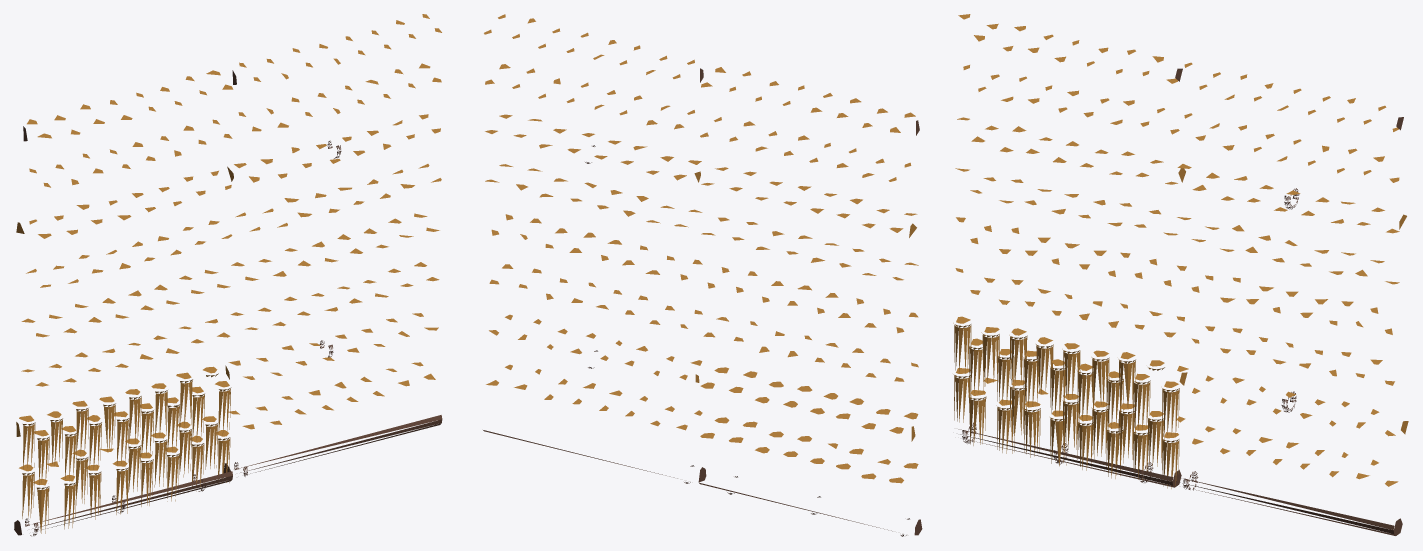
File: pagar_bambu.glb
The picture shows the model from 3 angles, left to right: view 1: azimuth 30°, elevation 25°; view 2: azimuth 150°, elevation 25°; view 3: azimuth 330°, elevation 25°; orthographic projection. The views are drawn at different scales.
Parts seen in each view (by area): view 1: geometry_0; view 2: geometry_0; view 3: geometry_0.
Part boxes in pixels (x1,y1,x2,y2): geometry_0: [14, 14, 442, 536]; geometry_0: [483, 14, 922, 536]; geometry_0: [953, 14, 1408, 535].
Bounding box in the file's own units: 3.27 × 3.07 × 0.2598.
